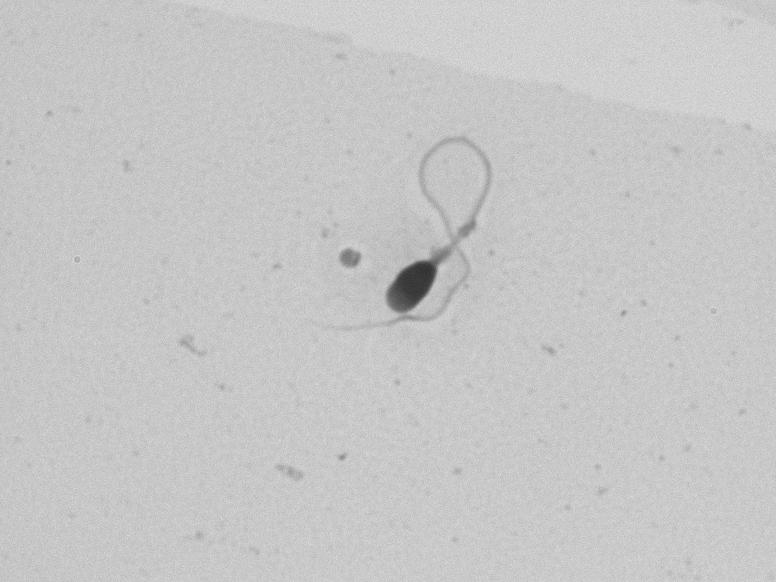Abnormal: (293, 115, 572, 376)
